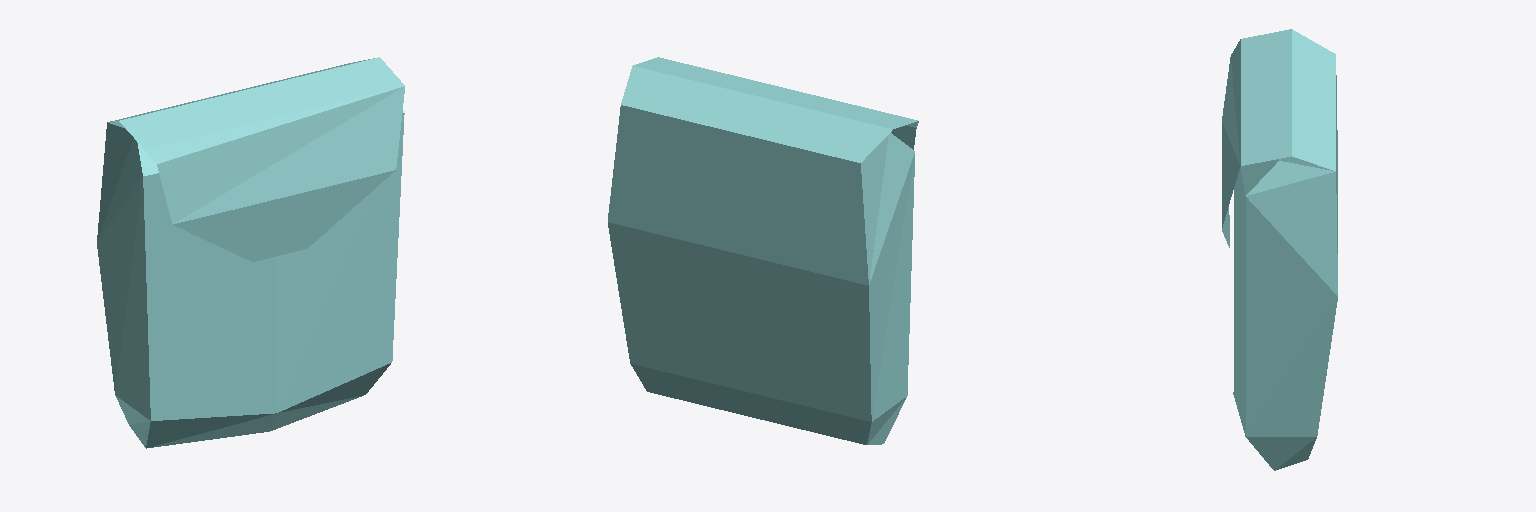
File: backpack_ca_type.obj
The picture shows the model from 3 angles: view 1: azimuth 30°, elevation 25°; view 2: azimuth 150°, elevation 25°; view 3: azimuth 270°, elevation 25°; orthographic projection.
Visible parts, largest first — view 1: Box03; view 2: Box03; view 3: Box03.
Part boxes in pixels (x1,y1,x2,y2): Box03: (97,57,404,448); Box03: (608,57,918,444); Box03: (1222,29,1337,470).
Size of the model in its own units: 32.11 by 38.06 by 12.32.